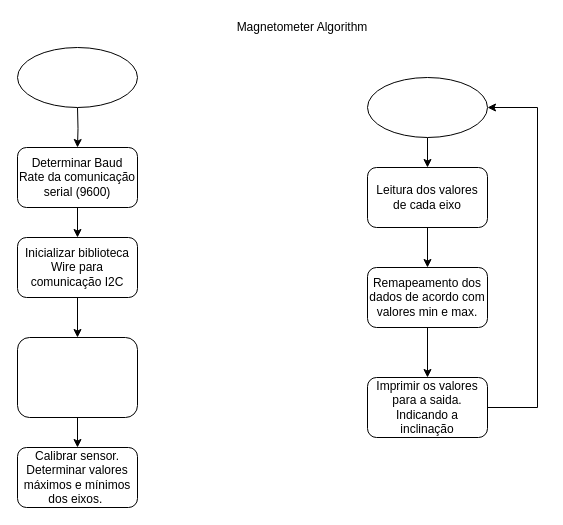
Some shapes in this 563 by 525 pixel diagram are drawn without their labels. The shapes that lost their labels are listed below. From the top down, each one's centre as x and y in pixels, then its label:
At point (77, 77): "Setup start".
At point (427, 107): "Loop start".
At point (77, 377): "Incializar Magnetômetro. Determinar parâmetros por registos.".
